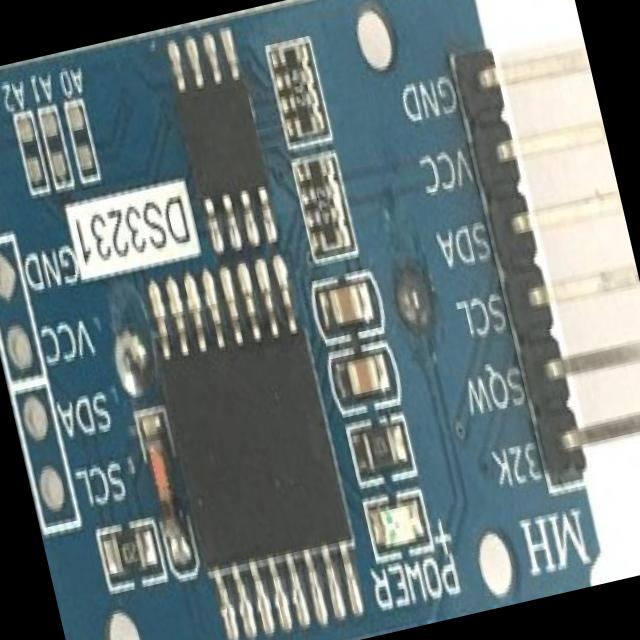IC: (142, 277, 372, 633), (170, 48, 279, 240)
LED: (372, 497, 422, 546)
capacitor: (326, 285, 371, 330), (345, 354, 388, 401)
connector: (448, 20, 640, 485)
diode: (137, 420, 196, 563)
resistor: (274, 42, 324, 136), (299, 154, 346, 246), (106, 532, 154, 578), (362, 424, 404, 466)
